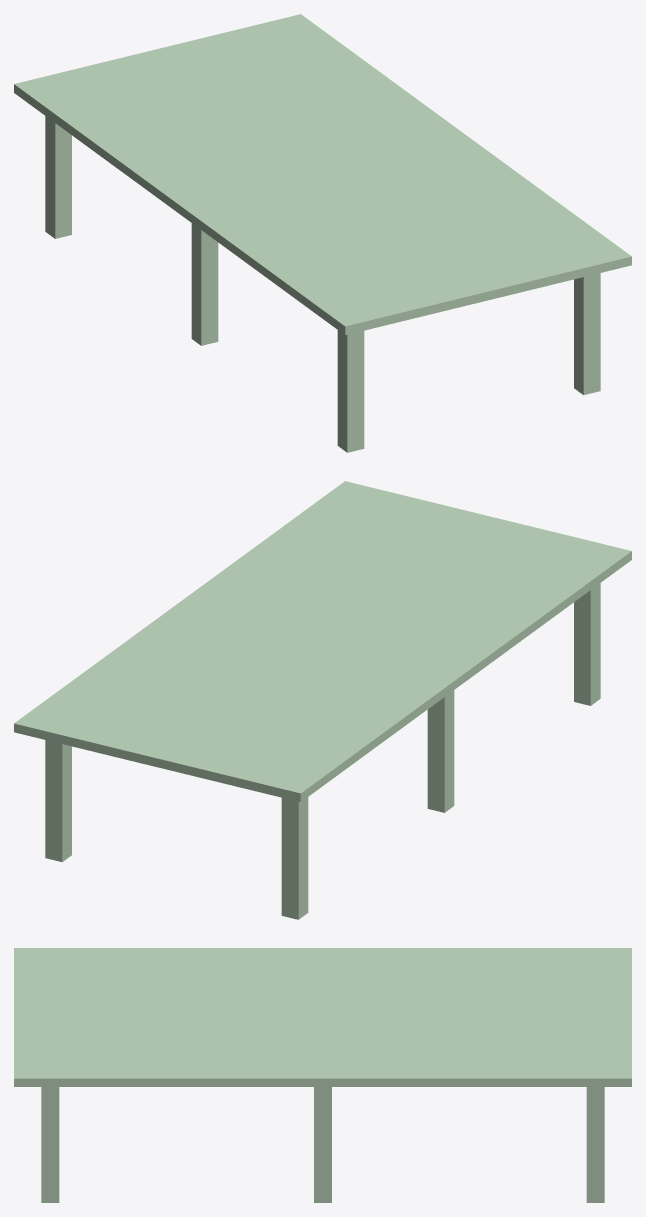
3 views of the same model, one above another, from view 1: azimuth 30°, elevation 25°; view 2: azimuth 150°, elevation 25°; view 3: azimuth 270°, elevation 25° (orthographic). The views are drawn at different scales.
Parts seen in each view (by area): view 1: 1700-3400.SLDPRT; view 2: 1700-3400.SLDPRT; view 3: 1700-3400.SLDPRT.
Part boxes in pixels (<box>): 1700-3400.SLDPRT: <box>14,14,631,452</box>; 1700-3400.SLDPRT: <box>14,481,631,919</box>; 1700-3400.SLDPRT: <box>14,948,631,1202</box>.
Bounding box in the file's own units: 1.7 × 0.8 × 3.4.
